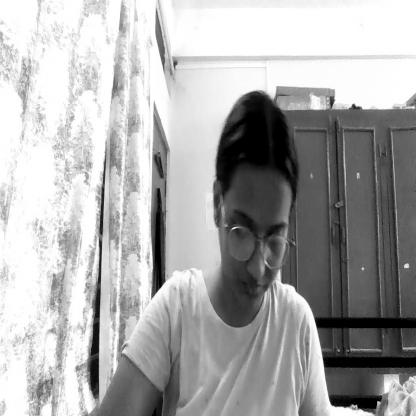Distracted: (215, 113, 293, 322)
